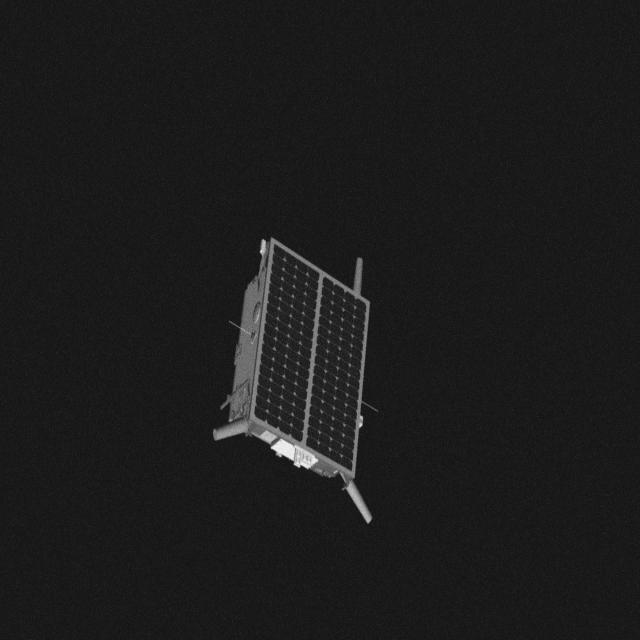medium_debris: (204, 230, 382, 534)
